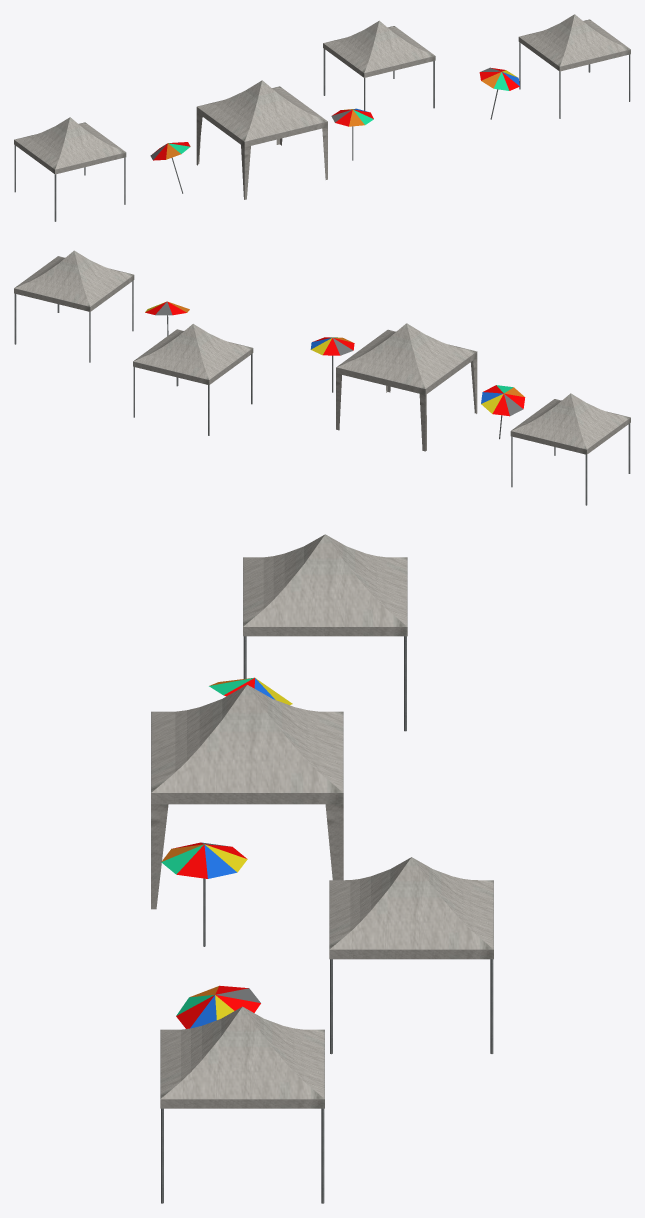
The model's file is Tents-Four.fbx.
3 renders of one model, top to bottom at view 1: azimuth 30°, elevation 25°; view 2: azimuth 150°, elevation 25°; view 3: azimuth 270°, elevation 25°, orthographic. The views are drawn at different scales.
Parts seen in each view (by area): view 1: StallUmbrellas; view 2: StallUmbrellas; view 3: StallUmbrellas.
Part boxes in pixels (left/top/right/bottom): StallUmbrellas: left=14, top=14, right=630, bottom=221; StallUmbrellas: left=14, top=250, right=630, bottom=505; StallUmbrellas: left=151, top=534, right=493, bottom=1203.
Size of the model in its own units: 3195 by 506 by 854.
